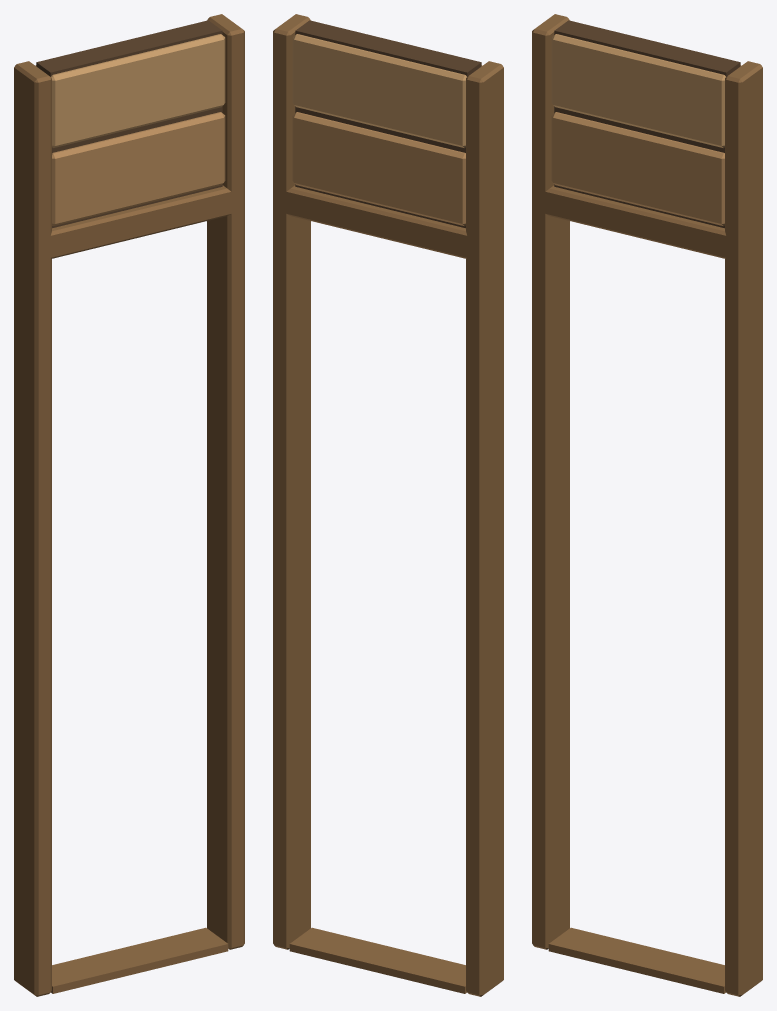
The model's file is porte_bois.glb.
3 views of the same model, side by side, from view 1: azimuth 30°, elevation 25°; view 2: azimuth 150°, elevation 25°; view 3: azimuth 330°, elevation 25° (orthographic).
Visible parts, largest first — view 1: porte_bois_planche_sombre.002, porte_bois_planche_claire.002, porte_bois_planche.002, porte_bois_bois_sombre.002; view 2: porte_bois_planche_sombre.002, porte_bois_planche_claire.002, porte_bois_planche.002, porte_bois_bois_sombre.002; view 3: porte_bois_planche_sombre.002, porte_bois_planche_claire.002, porte_bois_planche.002, porte_bois_bois_sombre.002.
Part boxes in pixels (x1,y1,x2,y2): porte_bois_planche_sombre.002: [14, 14, 244, 996]; porte_bois_planche_claire.002: [35, 34, 225, 147]; porte_bois_planche.002: [52, 112, 225, 225]; porte_bois_bois_sombre.002: [36, 20, 222, 228]; porte_bois_planche_sombre.002: [273, 14, 503, 996]; porte_bois_planche_claire.002: [292, 34, 482, 147]; porte_bois_planche.002: [292, 112, 465, 225]; porte_bois_bois_sombre.002: [295, 20, 481, 228]; porte_bois_planche_sombre.002: [532, 14, 762, 996]; porte_bois_planche_claire.002: [551, 34, 741, 147]; porte_bois_planche.002: [551, 112, 724, 225]; porte_bois_bois_sombre.002: [554, 20, 740, 228].
Bounding box in the file's own units: 0.6 × 2.5 × 0.115.
